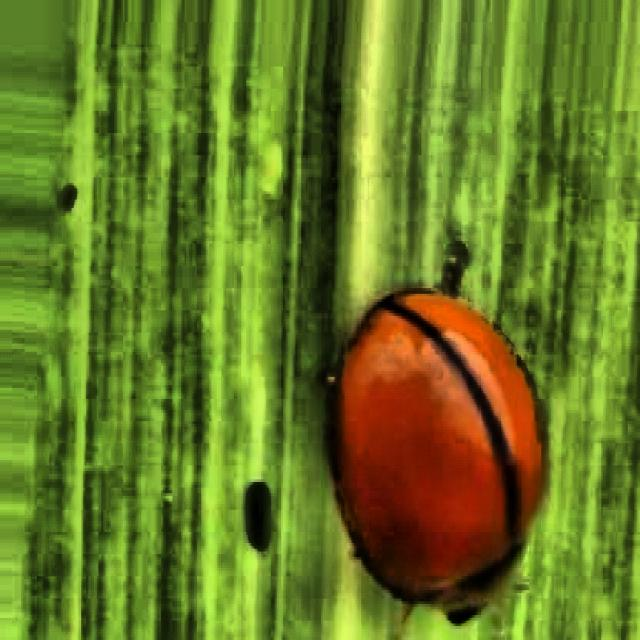Ladybug: (259, 187, 592, 638)
